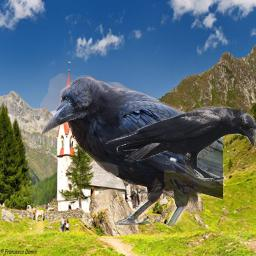Crow: (40, 73, 223, 225), (105, 106, 256, 181)
